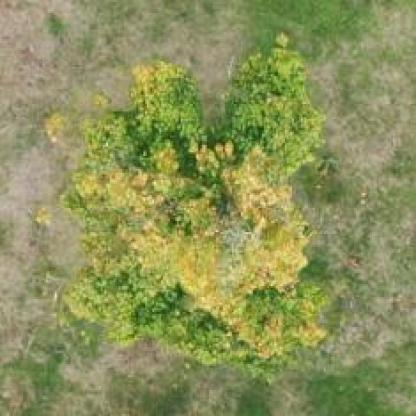Deciduous Tree: (39, 70, 347, 376)
